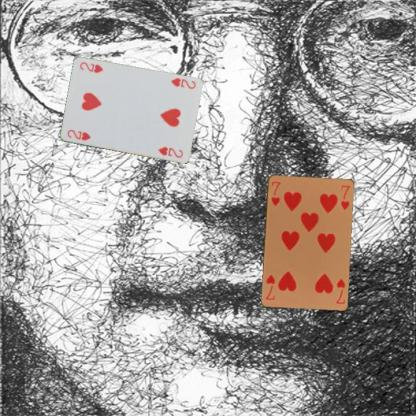2h: (168, 76, 197, 90), (65, 127, 91, 142)
7h: (269, 178, 282, 208), (333, 276, 346, 305)
